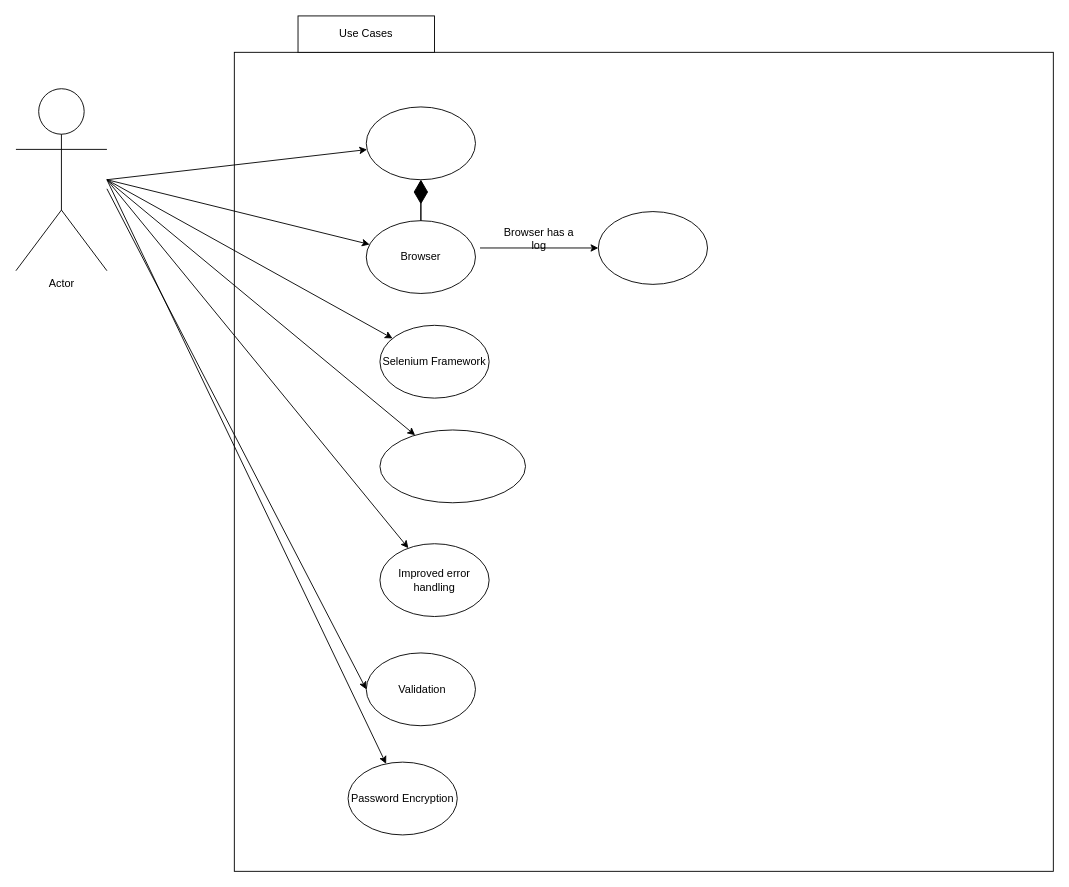
This 1069x887 diagram has some shape labels left out. Each missing label, with the centre of its shape:
"Browserlist" goes at point 420,143.
"Log" goes at point 652,247.
"Simplified Elements (Type Checking)" goes at point 452,466.
